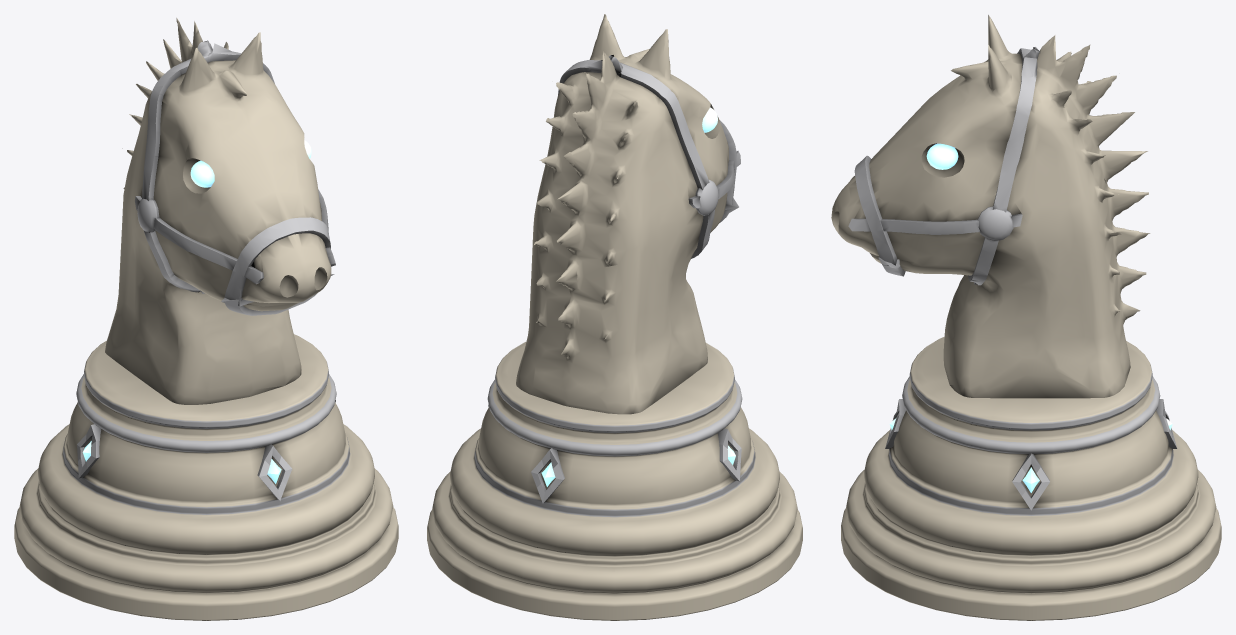
The model's file is knight.glb.
3 views of the same model, side by side, from view 1: azimuth 30°, elevation 25°; view 2: azimuth 150°, elevation 25°; view 3: azimuth 270°, elevation 25° (orthographic). The views are drawn at different scales.
Visible parts, largest first — view 1: knight; view 2: knight; view 3: knight.
Boxes of the visible parts, x1,y1,x2,y2 form: knight: [14, 18, 398, 620]; knight: [427, 14, 802, 620]; knight: [831, 15, 1221, 620].
Bounding box in the file's own units: 0.74 × 1.1 × 0.7583.
